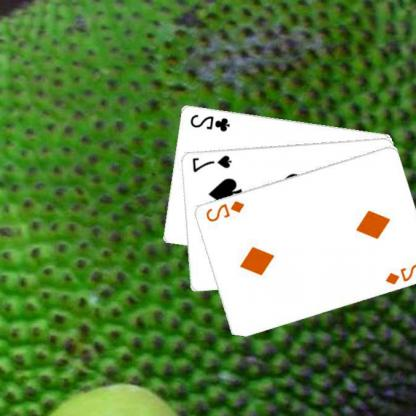2C: (189, 111, 233, 133)
2D: (204, 198, 247, 222), (384, 260, 416, 286)
7S: (191, 152, 234, 173)
